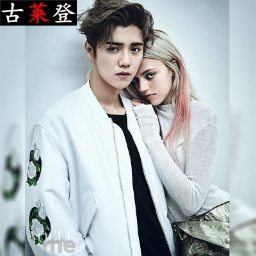face: (80, 1, 154, 90), (134, 27, 191, 124)
